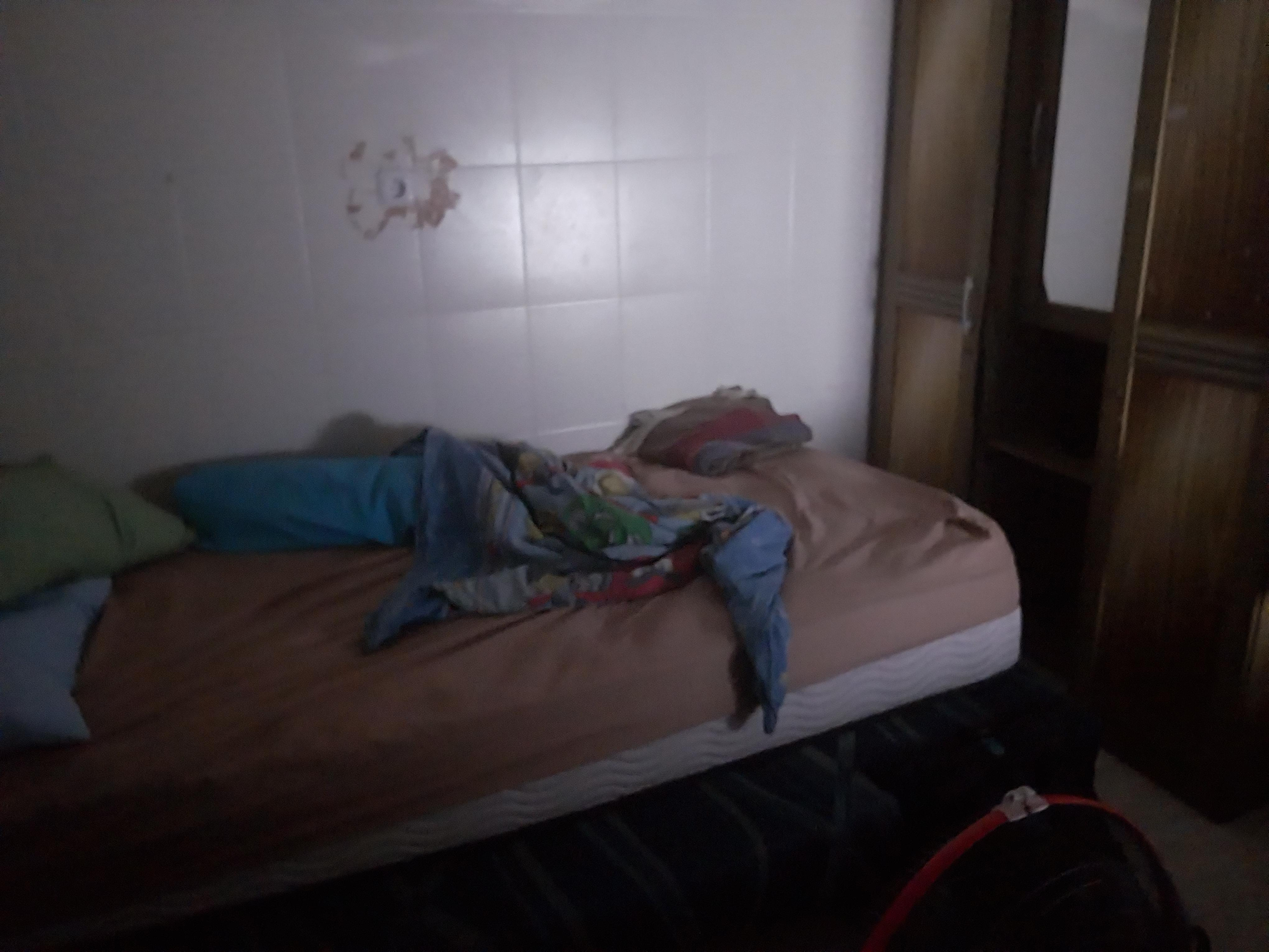bed: (0, 396, 1049, 951), (0, 940, 4, 940)
blanket: (357, 416, 824, 733)
cabinet-merged: (866, 0, 1269, 825)
pillow: (0, 427, 197, 605), (174, 455, 424, 553), (0, 578, 110, 753)
wall: (0, 0, 892, 480)
